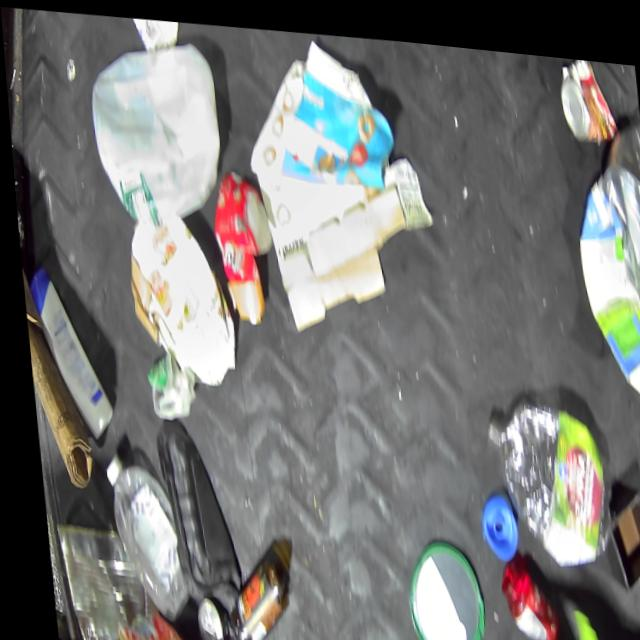can: (205, 162, 275, 322), (213, 546, 285, 640), (556, 45, 615, 132), (183, 590, 226, 640)
milk_jug: (84, 29, 225, 225)
non_white_jug: (569, 160, 640, 393)
plastic_bottle: (95, 448, 183, 622)
